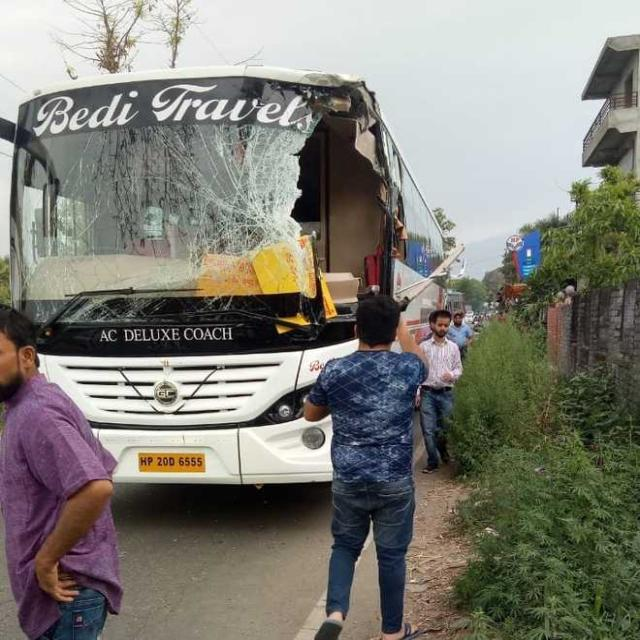accident: (10, 66, 442, 484)
